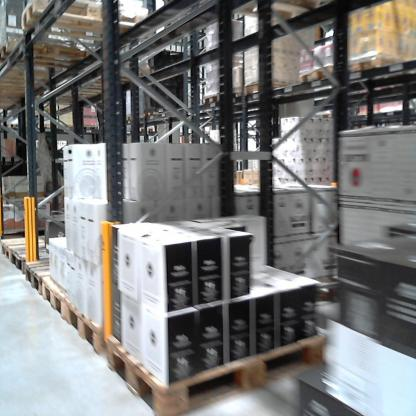pallet: (102, 302, 339, 415), (18, 0, 141, 40), (165, 2, 324, 30), (1, 31, 90, 78), (64, 293, 111, 359), (285, 266, 346, 313), (24, 257, 63, 302), (9, 243, 63, 274), (0, 233, 51, 265), (41, 275, 67, 327), (346, 53, 396, 77), (300, 62, 342, 89), (245, 82, 295, 97), (197, 93, 221, 104), (221, 89, 241, 102), (122, 112, 138, 123), (142, 109, 159, 119), (78, 123, 99, 131), (135, 126, 156, 134)
